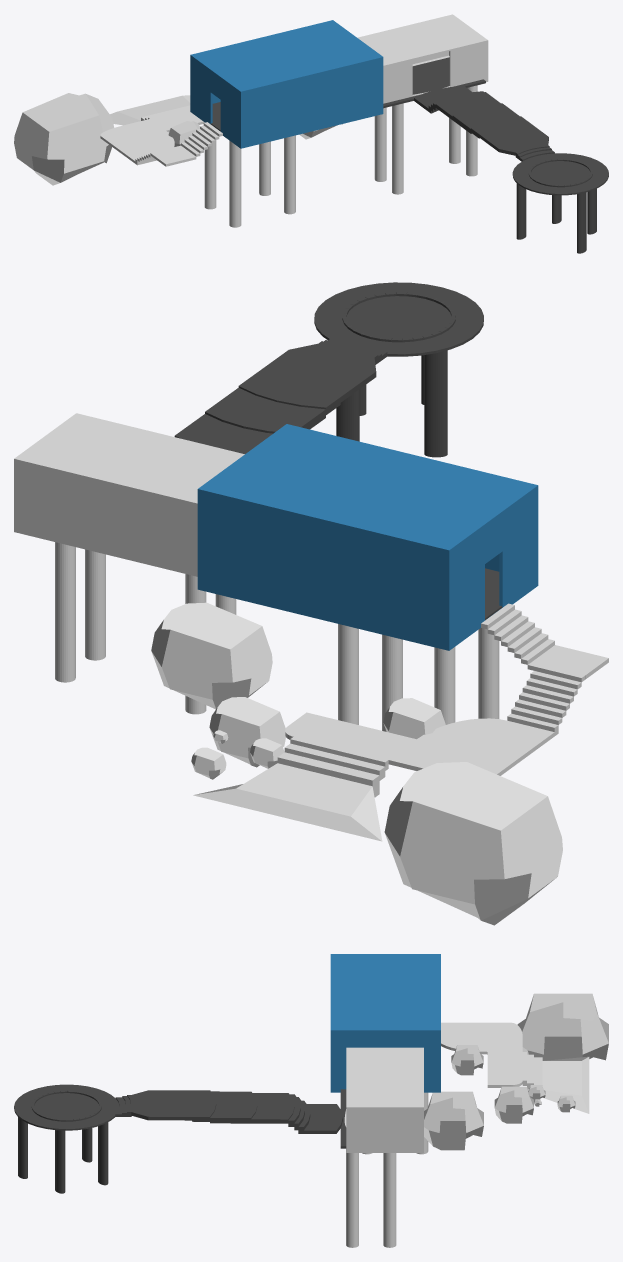
File: houseig.fbx
3 views of the same model, one above another, from view 1: azimuth 30°, elevation 25°; view 2: azimuth 150°, elevation 25°; view 3: azimuth 270°, elevation 25° (orthographic). The views are drawn at different scales.
Visible parts, largest first — view 1: Cube, Cylinder.001, Cube.010, Cube.001, Cube.005, Cylinder, Cube.003, Cube.004, Cylinder.003, Cylinder.007, Cylinder.004, Cylinder.002 (+8 smaller); view 2: Cube, Cube.001, Cube.005, Cube.010, Cylinder.001, Cube.011, Cylinder, Cube.004, Cube.012, Cylinder.014, Cylinder.012, Cylinder.013 (+7 smaller); view 3: Cube, Cylinder.001, Cube.001, Cube.005, Cube.010, Cube.011, Cylinder, Cylinder.014, Cylinder.013, Cube.012, Cube.007, Cylinder.009 (+2 smaller).
Boxes of the visible parts, bbox=[...] form: Cube: bbox=[190, 20, 383, 148]; Cylinder.001: bbox=[414, 86, 608, 195]; Cube.010: bbox=[14, 93, 114, 185]; Cube.001: bbox=[357, 14, 488, 103]; Cube.005: bbox=[100, 95, 204, 165]; Cylinder: bbox=[528, 159, 592, 187]; Cube.003: bbox=[383, 57, 485, 108]; Cube.004: bbox=[152, 122, 222, 166]; Cylinder.003: bbox=[392, 103, 403, 194]; Cylinder.007: bbox=[229, 140, 241, 227]; Cylinder.004: bbox=[284, 135, 295, 214]; Cylinder.002: bbox=[374, 107, 386, 181]; Cube: bbox=[197, 424, 538, 650]; Cube.001: bbox=[14, 413, 244, 576]; Cube.005: bbox=[193, 663, 585, 841]; Cube.010: bbox=[384, 762, 562, 925]; Cylinder.001: bbox=[174, 282, 483, 453]; Cube.011: bbox=[151, 602, 272, 709]; Cylinder: bbox=[342, 292, 455, 342]; Cube.004: bbox=[481, 603, 608, 679]; Cube.012: bbox=[209, 697, 285, 767]; Cylinder.014: bbox=[55, 542, 75, 682]; Cylinder.012: bbox=[424, 350, 447, 457]; Cylinder.013: bbox=[85, 549, 105, 660]; Cube: bbox=[330, 954, 440, 1092]; Cylinder.001: bbox=[14, 1084, 342, 1133]; Cube.001: bbox=[344, 1047, 423, 1152]; Cube.005: bbox=[441, 1022, 589, 1113]; Cube.010: bbox=[517, 993, 608, 1060]; Cube.011: bbox=[424, 1091, 483, 1150]; Cylinder: bbox=[31, 1090, 101, 1121]; Cylinder.014: bbox=[383, 1153, 396, 1247]; Cylinder.013: bbox=[346, 1149, 358, 1247]; Cube.012: bbox=[494, 1086, 533, 1123]; Cube.007: bbox=[451, 1045, 483, 1075]; Cylinder.009: bbox=[55, 1130, 65, 1193].
Bounding box in the file's own units: 4023 × 1558 × 5175.
